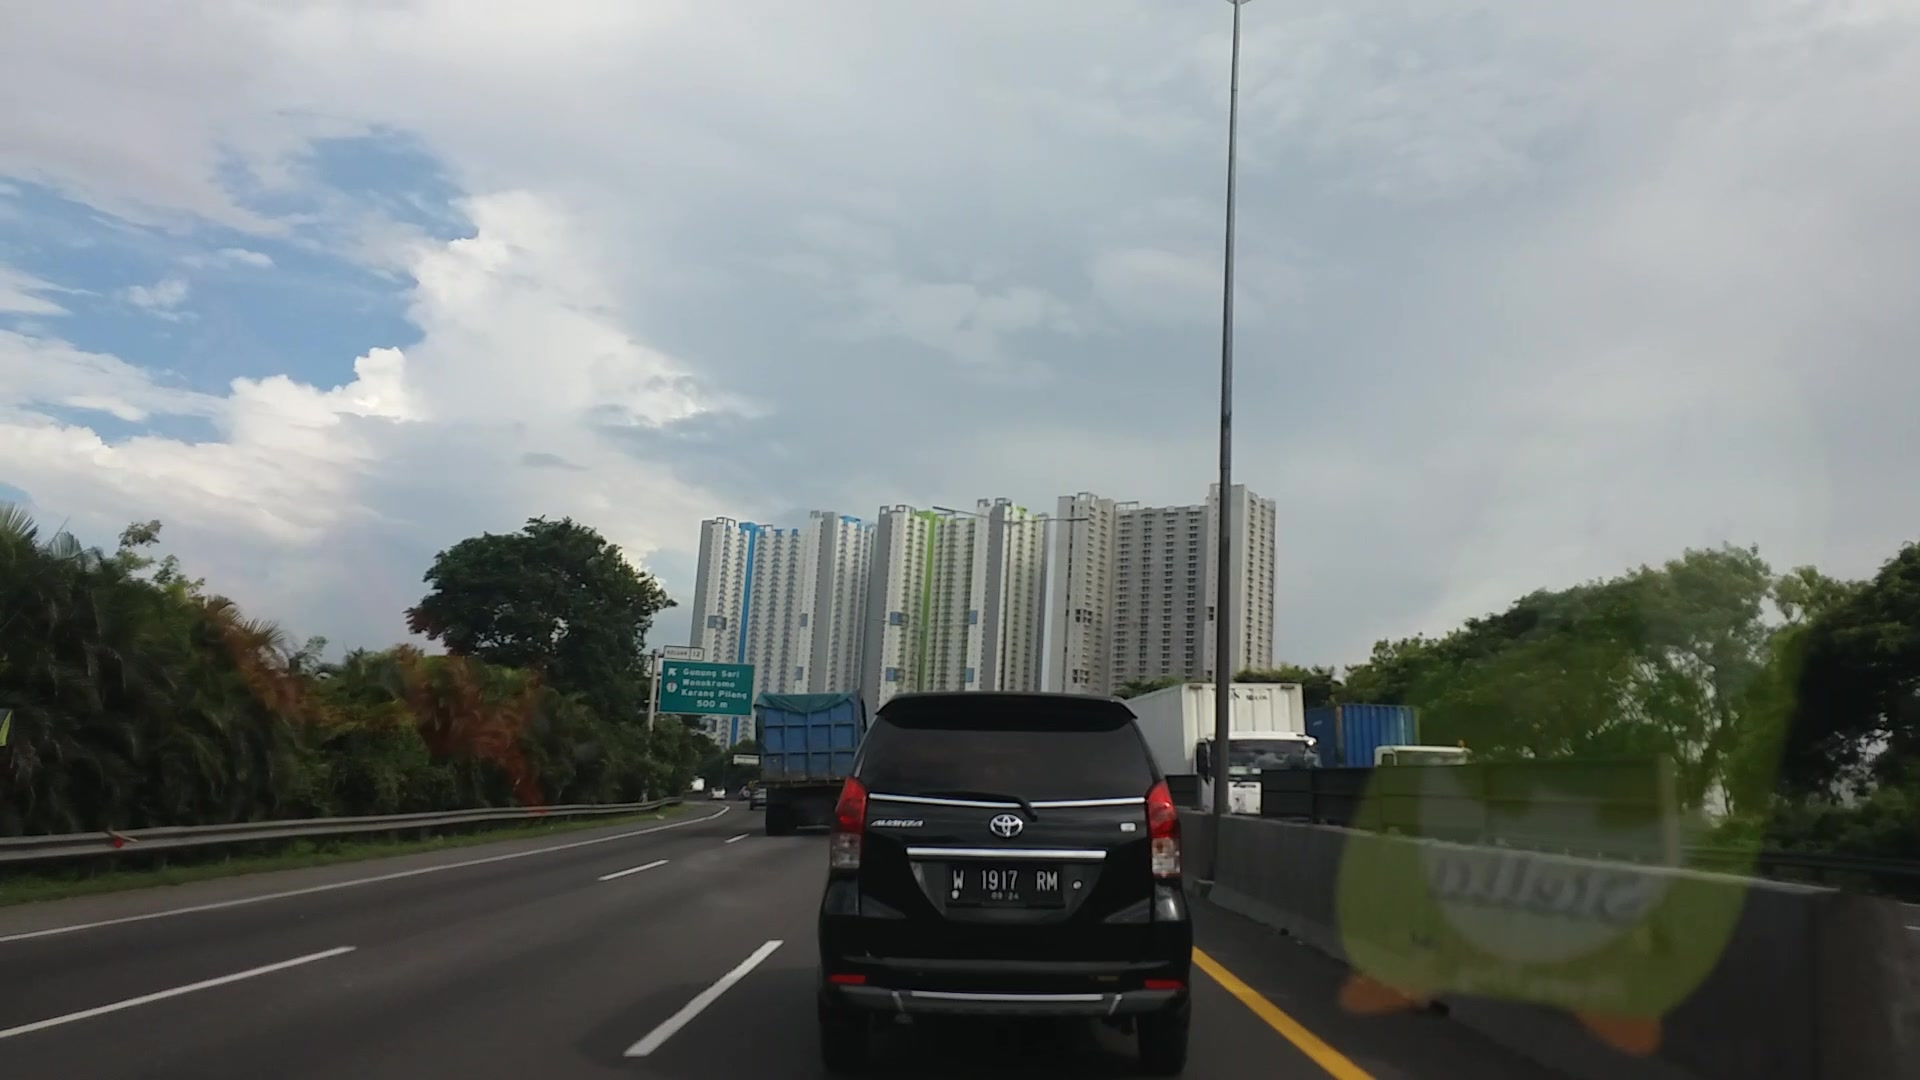plate_positive: (947, 861, 1062, 903)
